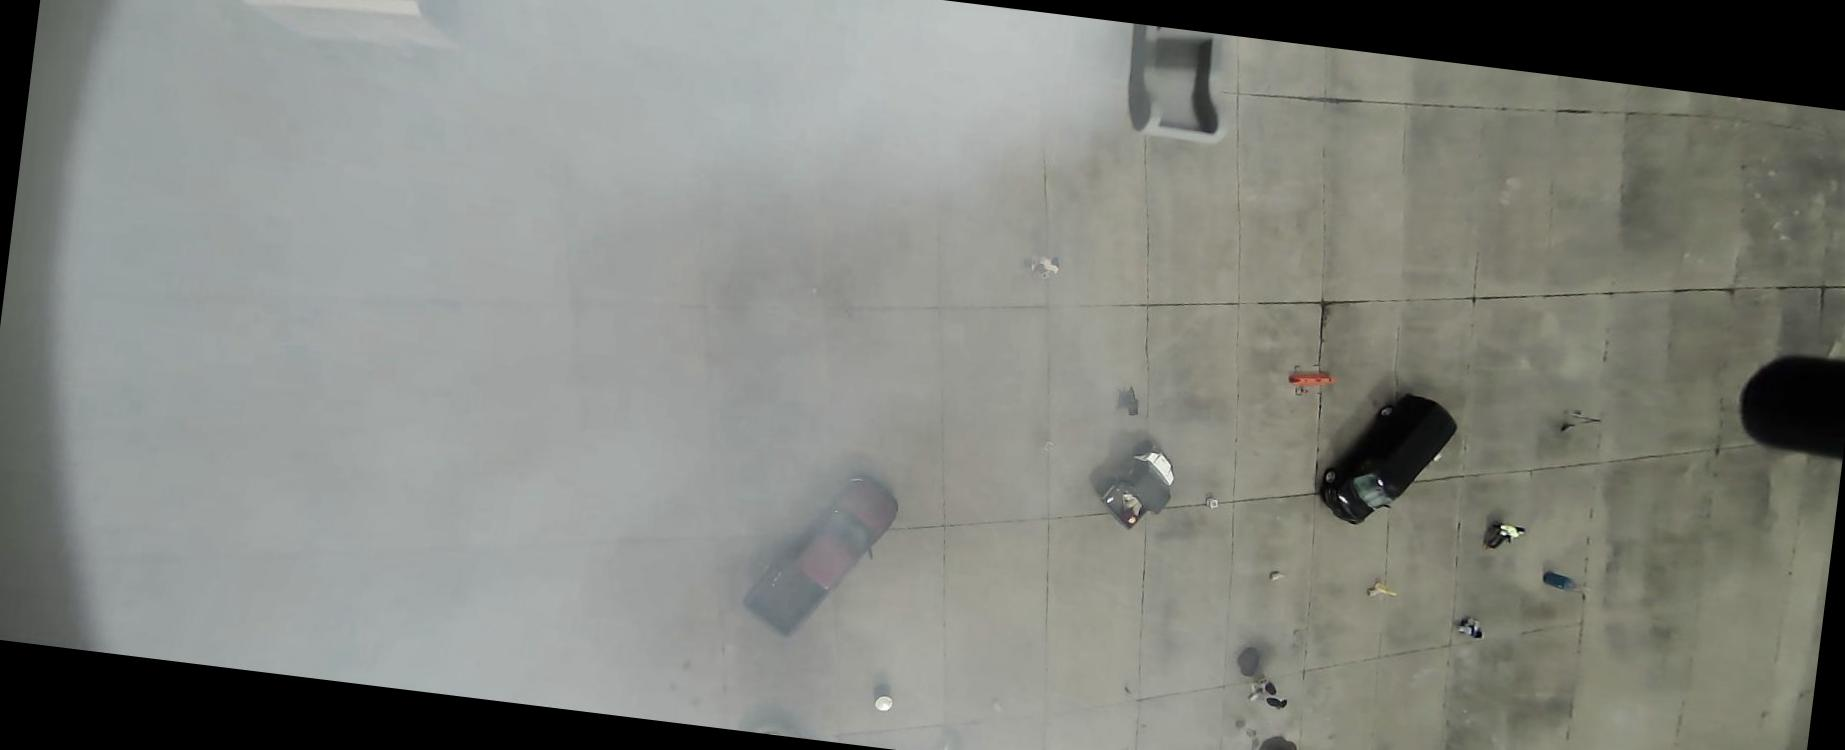vehicle: (739, 463, 900, 648), (1316, 383, 1459, 535), (1097, 434, 1177, 533)
